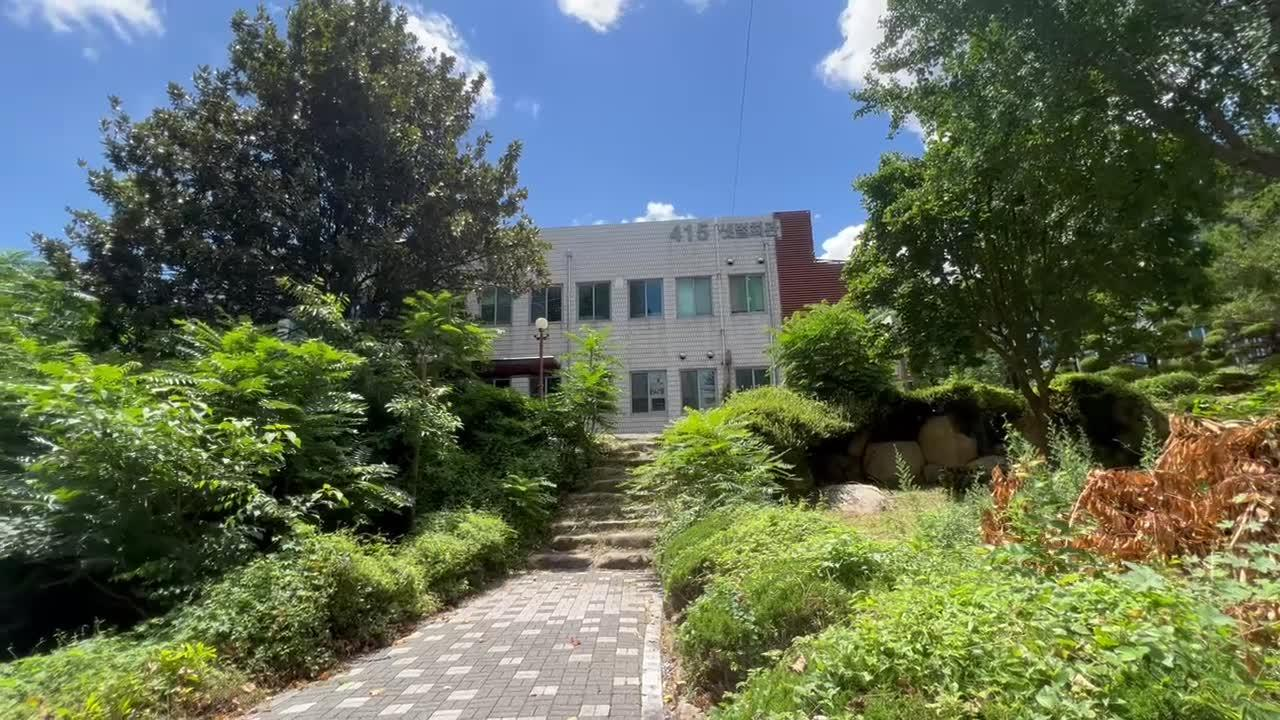building: (550, 196, 834, 398)
